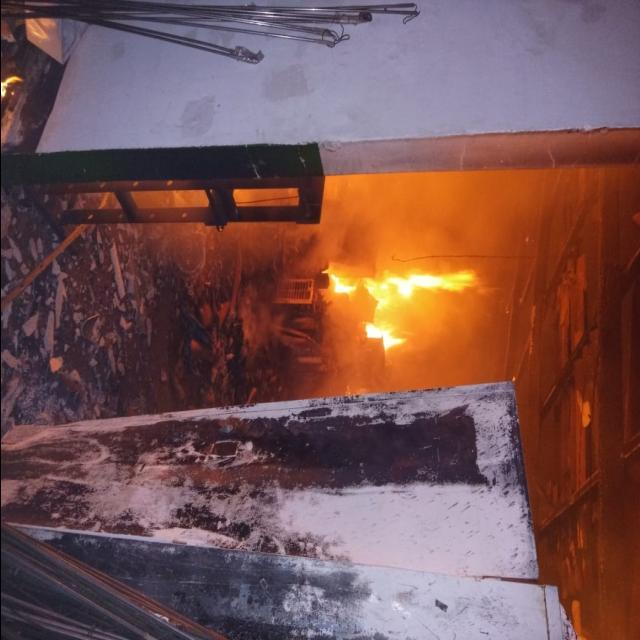Fire: (366, 262, 500, 314), (364, 318, 406, 350), (331, 274, 356, 296)
